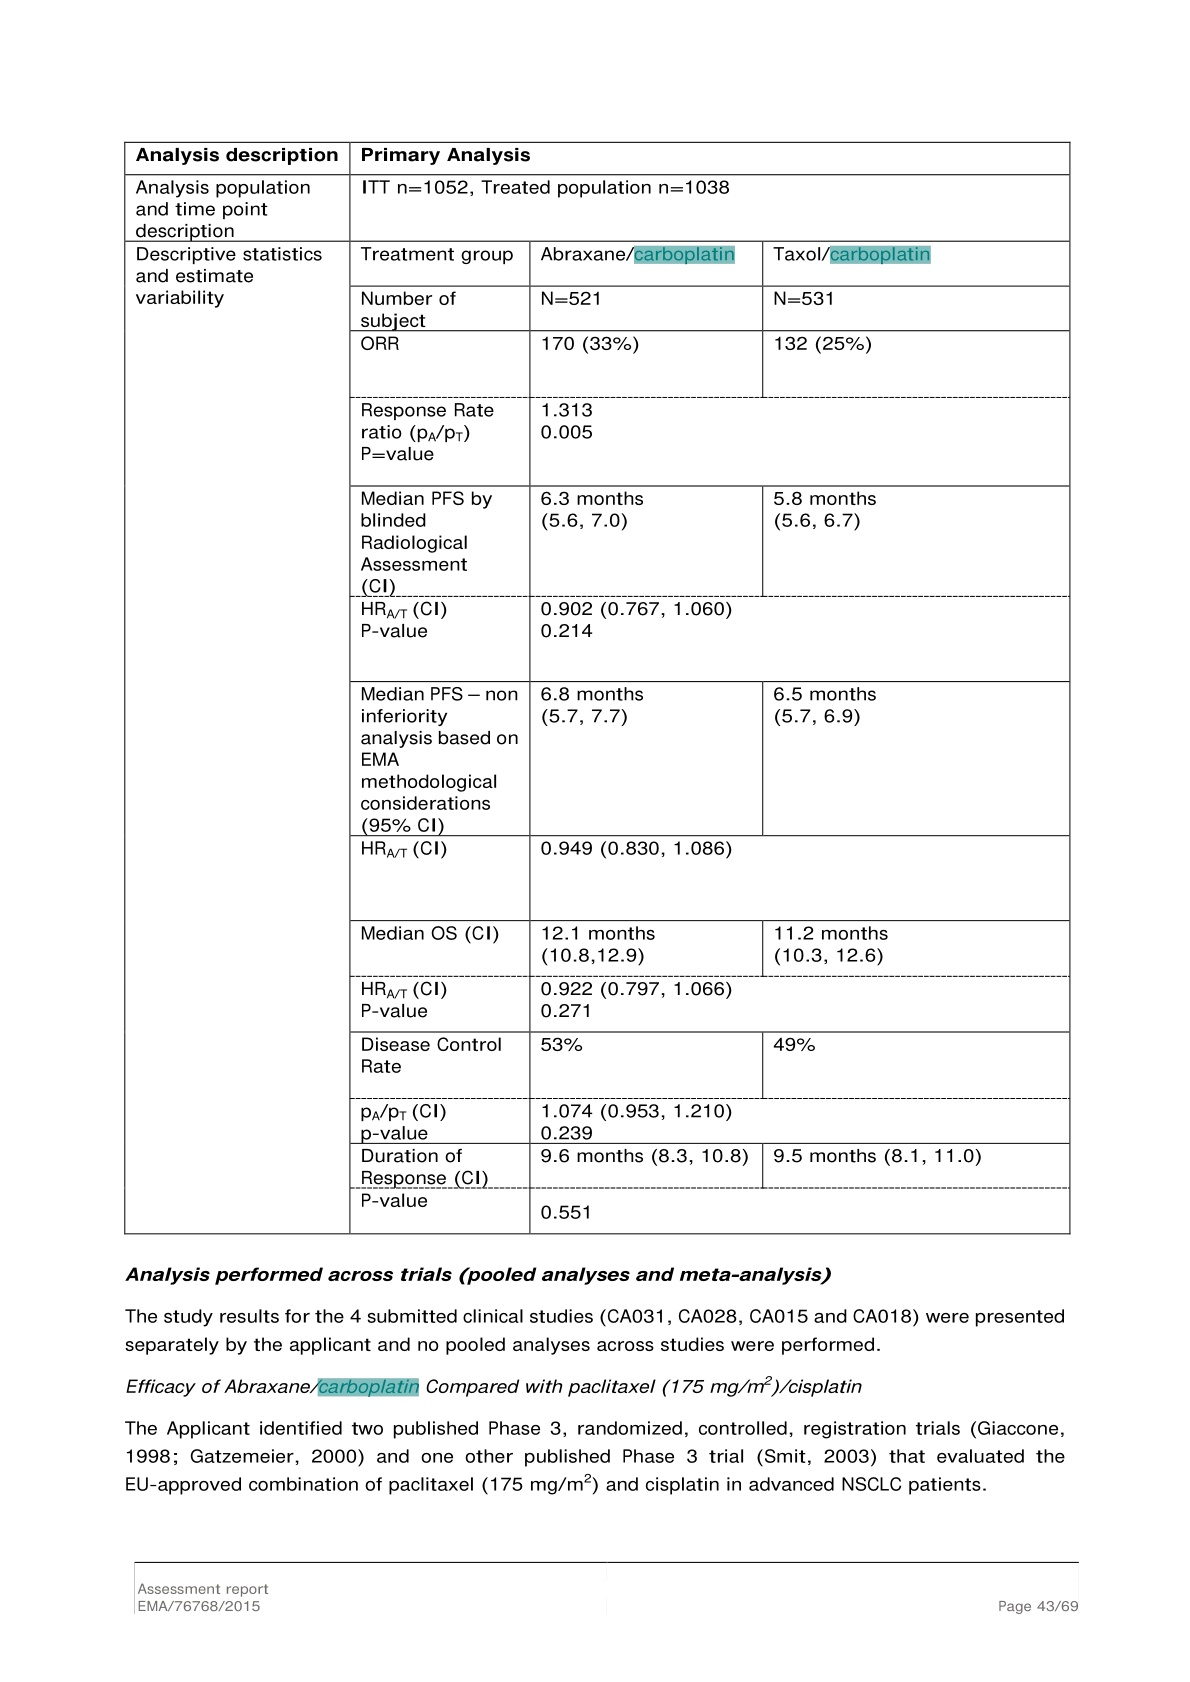merged_cells: (122, 140, 1074, 1236)
